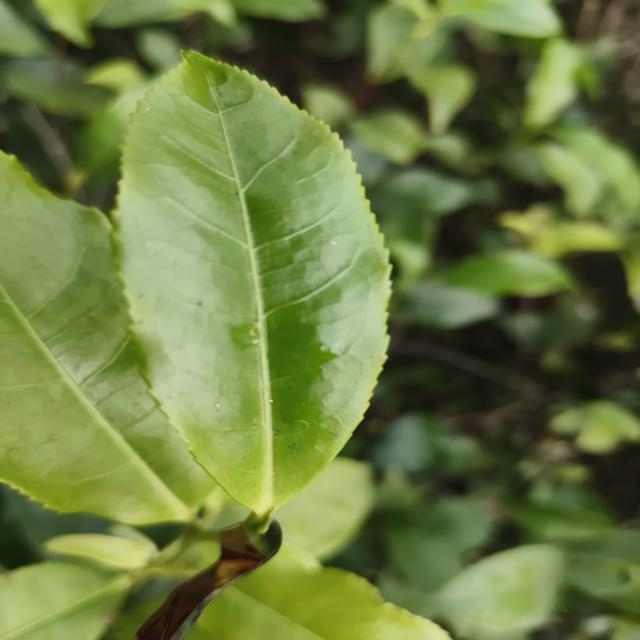Leaf: (114, 52, 389, 513), (0, 154, 212, 524), (193, 544, 450, 640), (435, 544, 564, 640), (0, 562, 131, 640), (275, 457, 374, 559), (442, 249, 572, 297), (524, 38, 581, 128), (535, 143, 601, 215), (410, 64, 475, 134), (439, 0, 560, 37), (44, 534, 157, 569), (35, 0, 106, 48)
